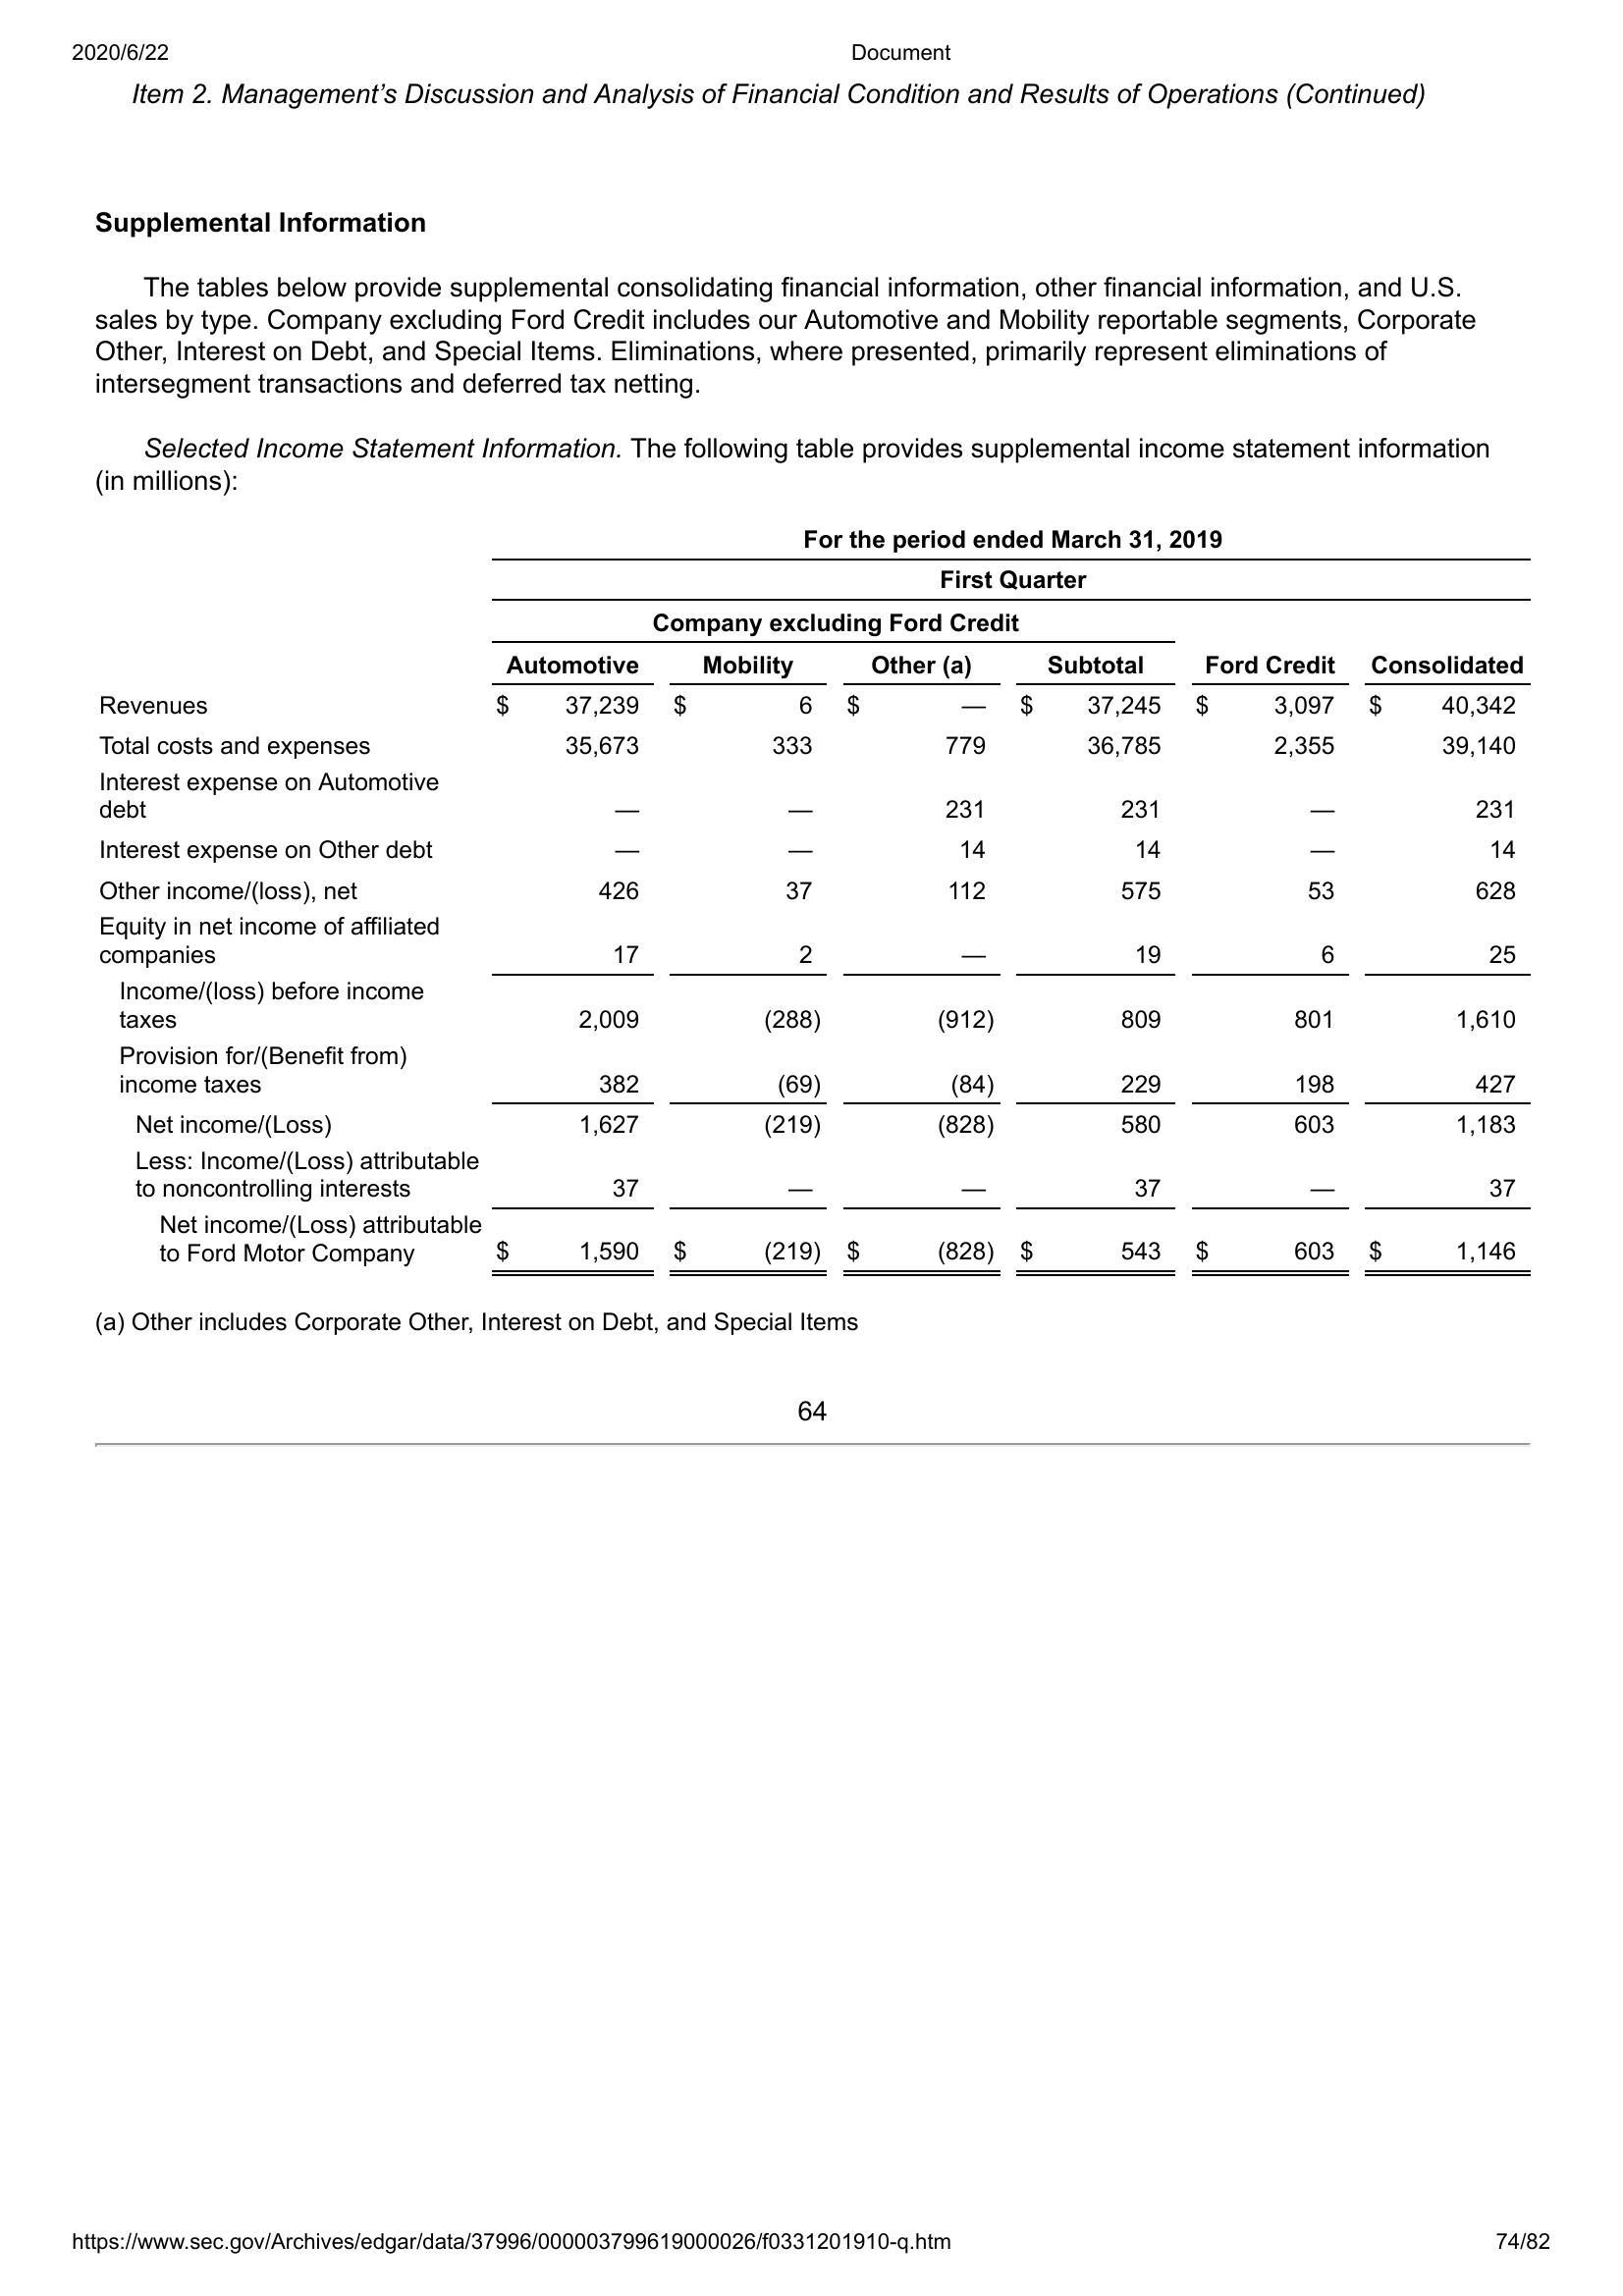table: (487, 551, 1539, 1280)
